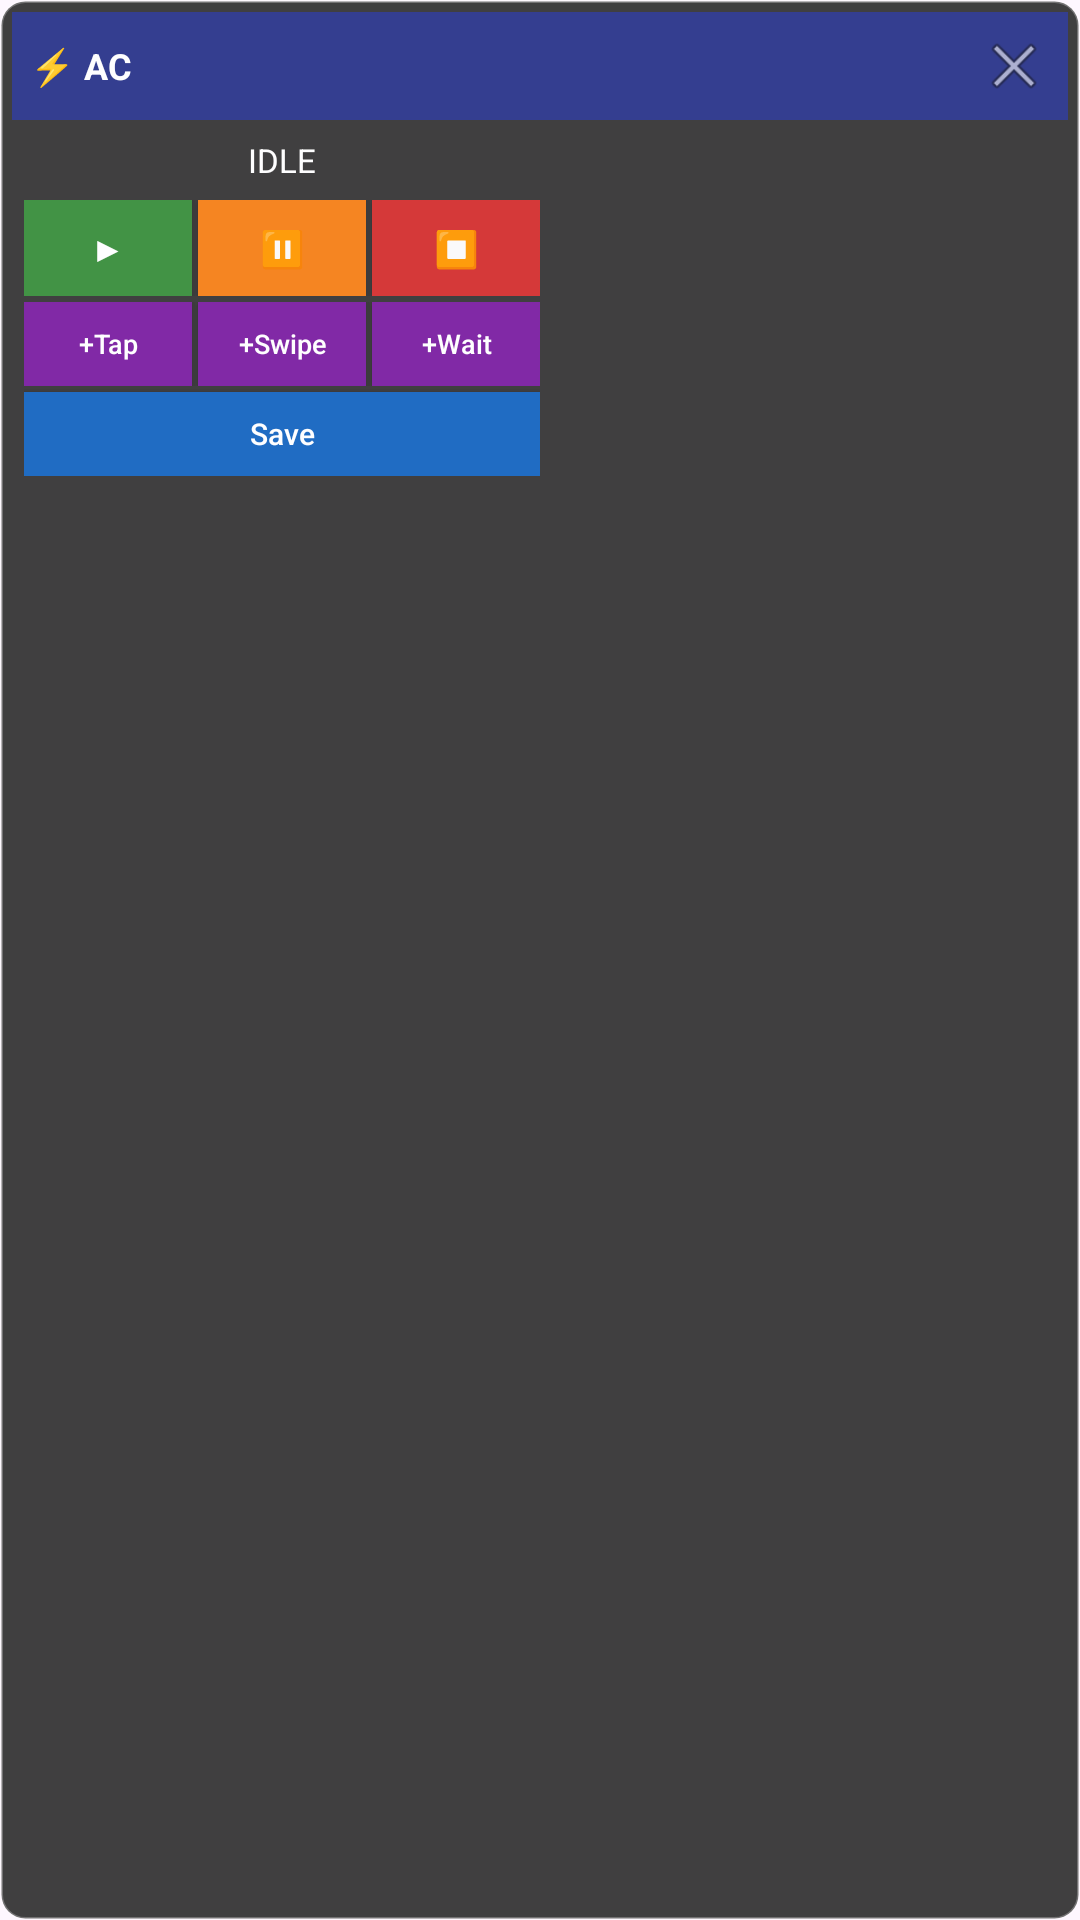

Named icons in this screenshot (1080x1920) and their bounding boxes, (x1, y1, x2, y2):
Hide: (992, 44, 1036, 88)
